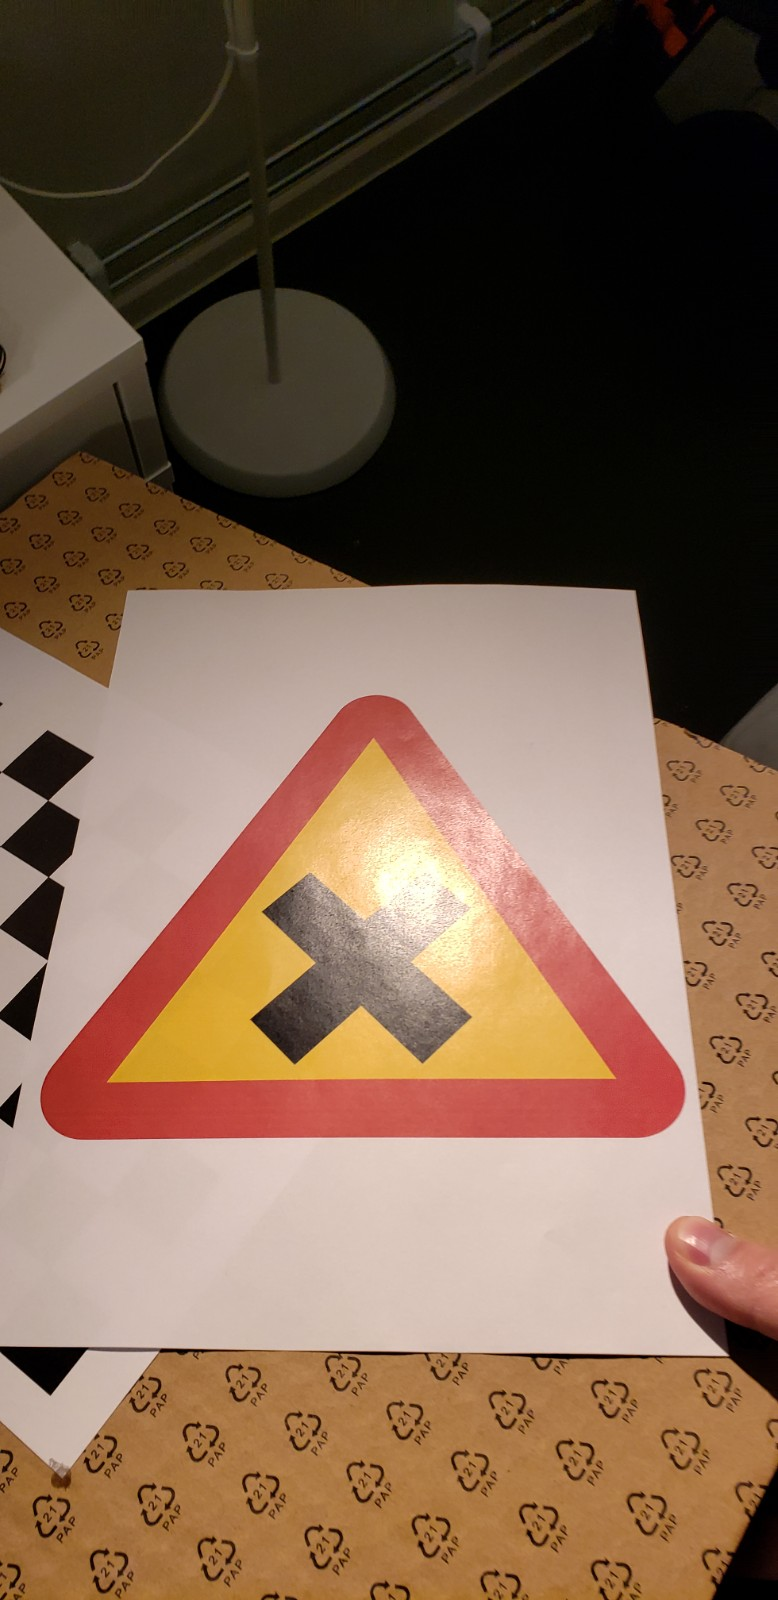junction: (33, 677, 706, 1163)
